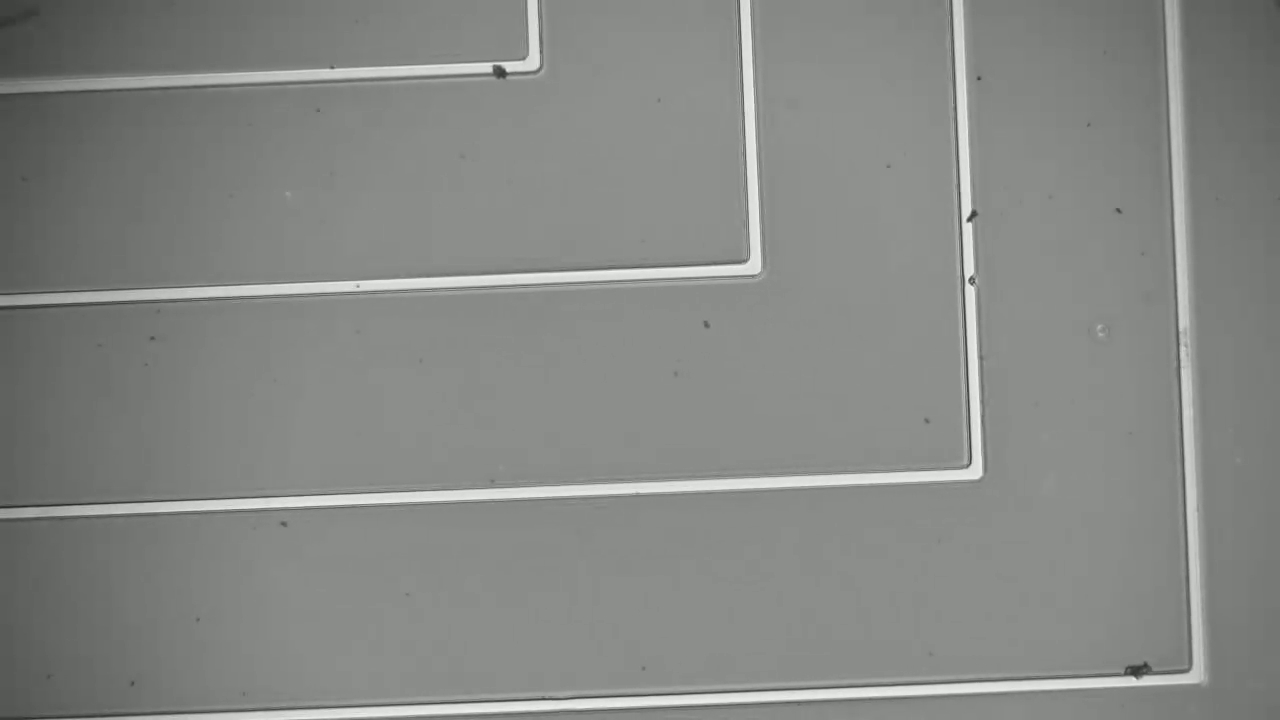stains_enbedded: (485, 48, 518, 86)
